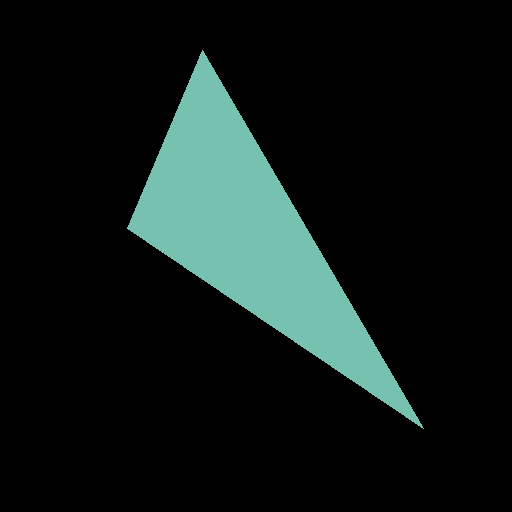triangle: (127, 50, 423, 428)
